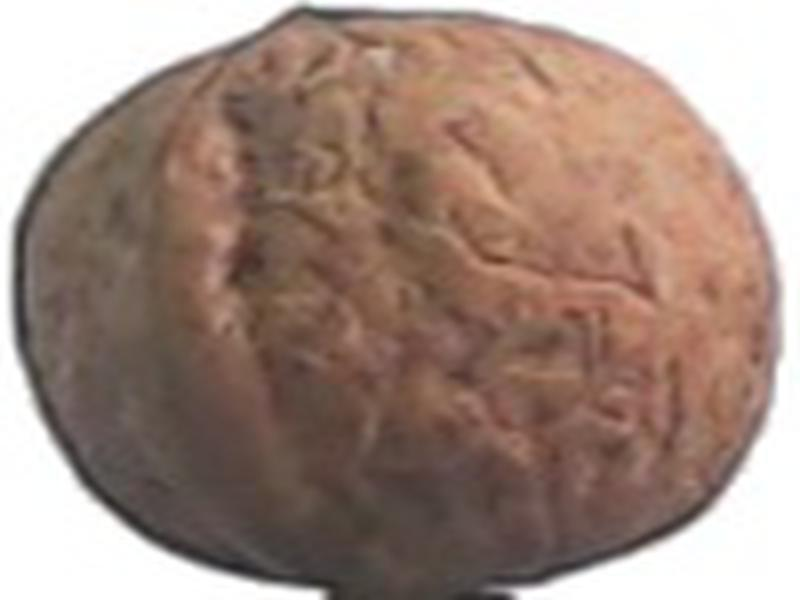walnut: (2, 5, 793, 600)
